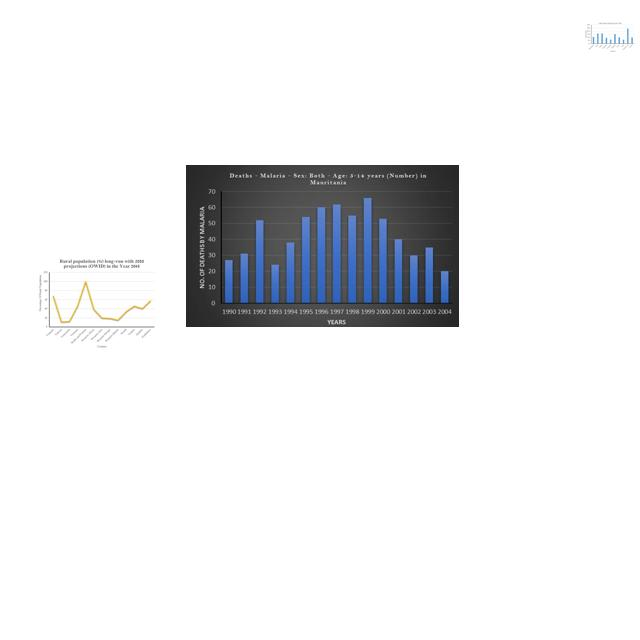Graph: (186, 165, 459, 327), (38, 258, 156, 349), (585, 22, 635, 52)
